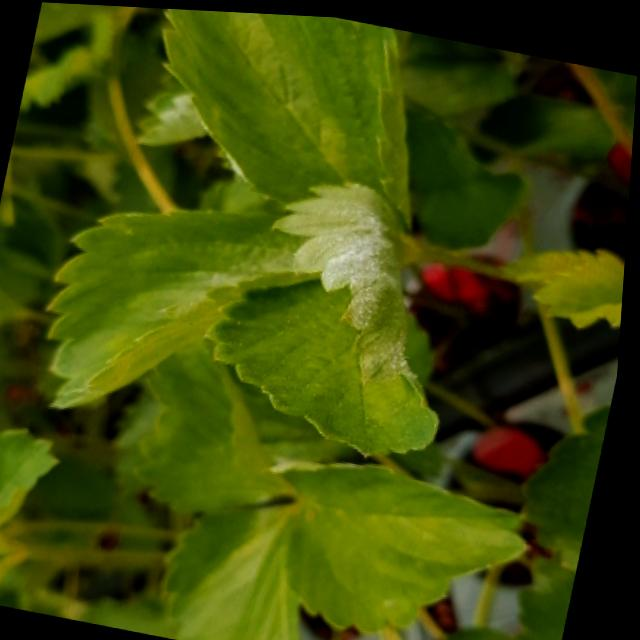Powdery Mildew Leaf: (209, 175, 446, 451), (161, 7, 416, 222), (50, 207, 320, 407)
